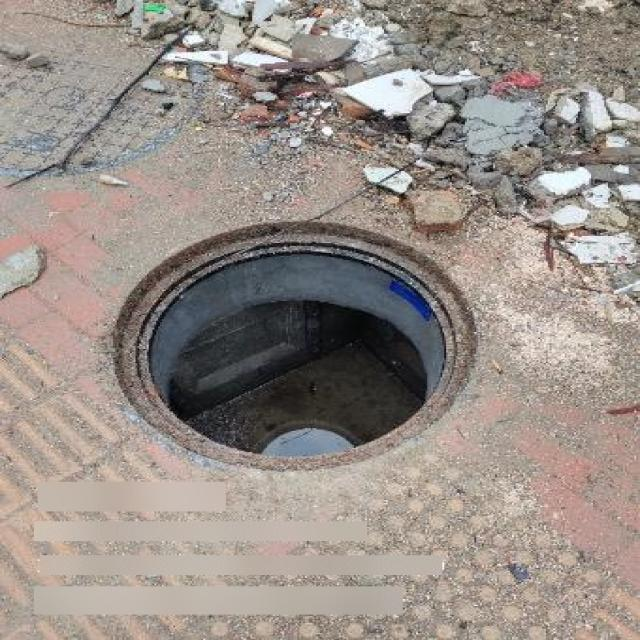Uncovered: (113, 219, 472, 469)
